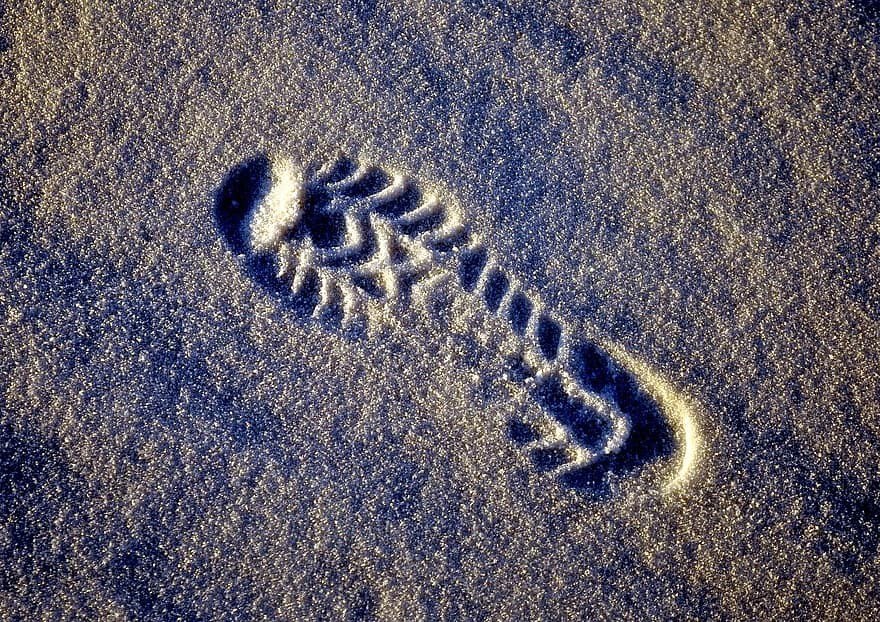human_foot_print: (205, 138, 717, 513)
